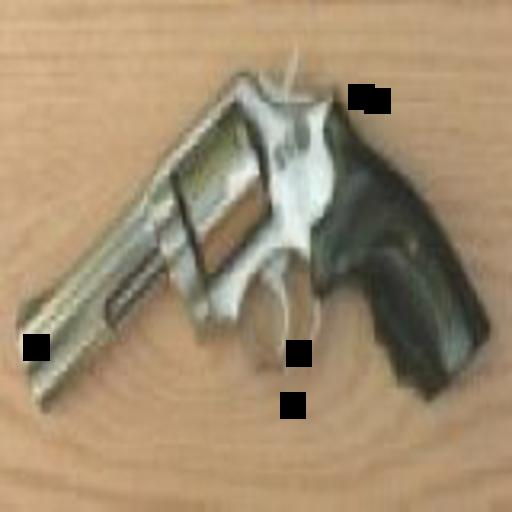Handgun: (21, 54, 485, 400)
